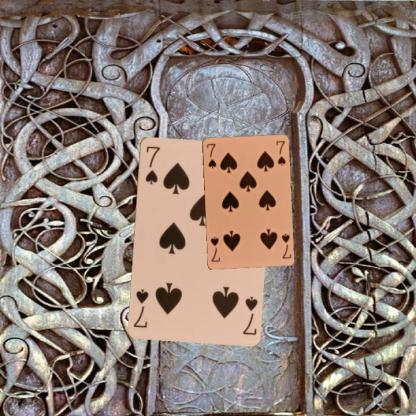7s: (142, 144, 161, 186), (240, 294, 259, 336), (279, 230, 292, 260), (204, 141, 217, 169)
